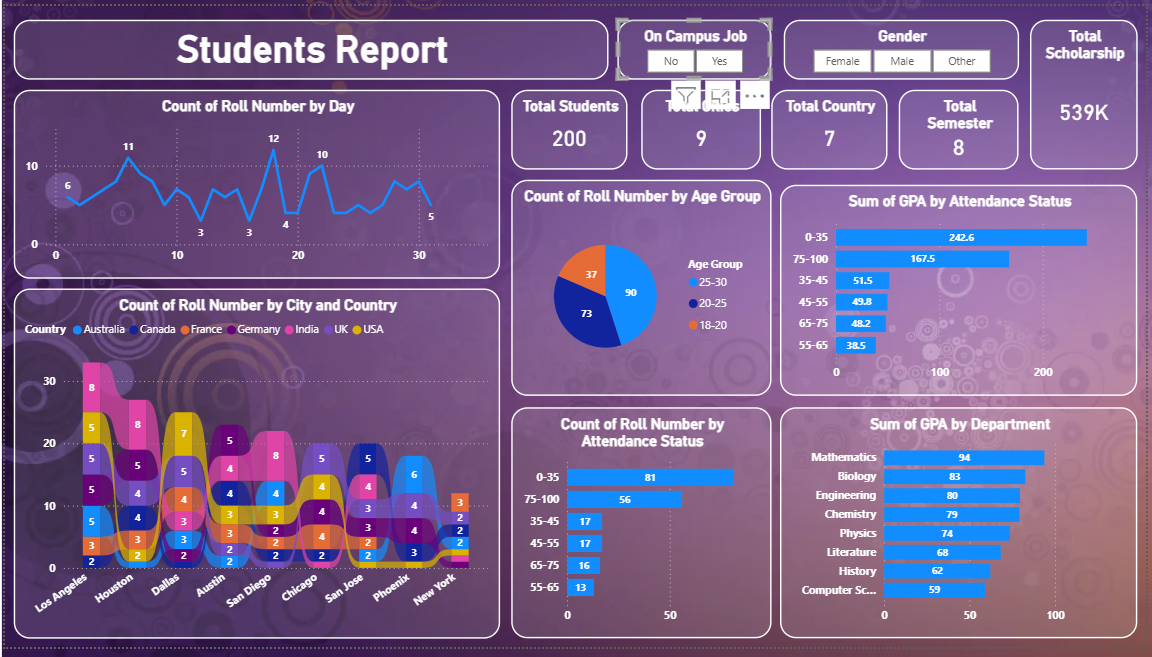

The page's visual inventory and layout, read from the dashboard file:
{"tool":"powerbi","page":{"name":"Page 1","canvas":[1280,720],"ordinal":0},"visuals":[{"type":"ribbonChart","fields":{"Y":["CountNonNull(students_data (1).Roll Number)"],"Category":["students_data (1).City"],"Series":["students_data (1).Country"]},"box":[9.8,316.9,545.5,392.6],"z":0},{"type":"pieChart","fields":{"Category":["students_data (1).Age Group"],"Y":["CountNonNull(students_data (1).Roll Number)"]},"box":[567.9,194.9,291.7,242.6],"z":1000},{"type":"clusteredBarChart","fields":{"Y":["Sum(students_data (1).GPA)"],"Category":["students_data (1).Department"]},"box":[869.4,450.1,401.1,259.4],"z":2000},{"type":"lineChart","fields":{"Category":["students_data (1).JoiningDate.Variation.Date Hierarchy.Day"],"Y":["CountNonNull(students_data (1).Roll Number)"]},"box":[9.8,94,545.5,211.7],"z":3000},{"type":"clusteredBarChart","fields":{"Category":["students_data (1).Attendance Status"],"Y":["CountNonNull(students_data (1).Roll Number)"]},"box":[567.9,450.1,291.7,259.4],"z":4000},{"type":"clusteredBarChart","fields":{"Y":["Sum(students_data (1).GPA)"],"Category":["students_data (1).Attendance Status"]},"box":[869.4,200.5,401.1,237],"z":5000},{"type":"textbox","title":"Students Report","box":[9.8,15.4,667.5,67.3],"z":6000},{"type":"slicer","title":"On Campus Job","fields":{"Values":["students_data (1).OnCampusJob"]},"box":[687.1,15.4,172.5,67.3],"z":7000},{"type":"slicer","title":"Gender","fields":{"Values":["students_data (1).Gender"]},"box":[873.6,15.4,263.6,67.3],"z":8000},{"type":"card","title":"Total Students","fields":{"Values":["Count(students_data (1).Roll Number)"]},"box":[567.9,94,130.4,89.7],"z":9000},{"type":"card","title":"Total Cities","fields":{"Values":["Count(students_data (1).City)"]},"box":[713.8,94,134.6,89.7],"z":10000},{"type":"card","title":"Total Semester","fields":{"Values":["Count(students_data (1).Semester)"]},"box":[1002.6,94,134.6,89.7],"z":11000},{"type":"card","title":"Total Scholarship","fields":{"Values":["Sum(students_data (1).Scholarship)"]},"box":[1149.9,15.4,120.6,168.3],"z":12000},{"type":"card","title":"Total Country","fields":{"Values":["Count(students_data (1).Country)"]},"box":[859.6,94,130.4,89.7],"z":13000}]}

Visuals, with their boxes in screenshot pixels (x1, y1, x2, y2), scaled from the page's 1280x720 canvas onto the 1152x657 screenshot:
ribbonChart - CountNonNull(students_data (1).Roll Number) x students_data (1).City: bbox=[9, 289, 500, 647]
pieChart - students_data (1).Age Group x CountNonNull(students_data (1).Roll Number): bbox=[511, 178, 774, 399]
clusteredBarChart - Sum(students_data (1).GPA) x students_data (1).Department: bbox=[782, 411, 1143, 647]
lineChart - students_data (1).JoiningDate.Variation.Date Hierarchy.Day x CountNonNull(students_data (1).Roll Number): bbox=[9, 86, 500, 279]
clusteredBarChart - students_data (1).Attendance Status x CountNonNull(students_data (1).Roll Number): bbox=[511, 411, 774, 647]
clusteredBarChart - Sum(students_data (1).GPA) x students_data (1).Attendance Status: bbox=[782, 183, 1143, 399]
"Students Report" textbox: bbox=[9, 14, 610, 75]
"On Campus Job" slicer: bbox=[618, 14, 774, 75]
"Gender" slicer: bbox=[786, 14, 1023, 75]
"Total Students" card: bbox=[511, 86, 628, 168]
"Total Cities" card: bbox=[642, 86, 764, 168]
"Total Semester" card: bbox=[902, 86, 1023, 168]
"Total Scholarship" card: bbox=[1035, 14, 1143, 168]
"Total Country" card: bbox=[774, 86, 891, 168]
